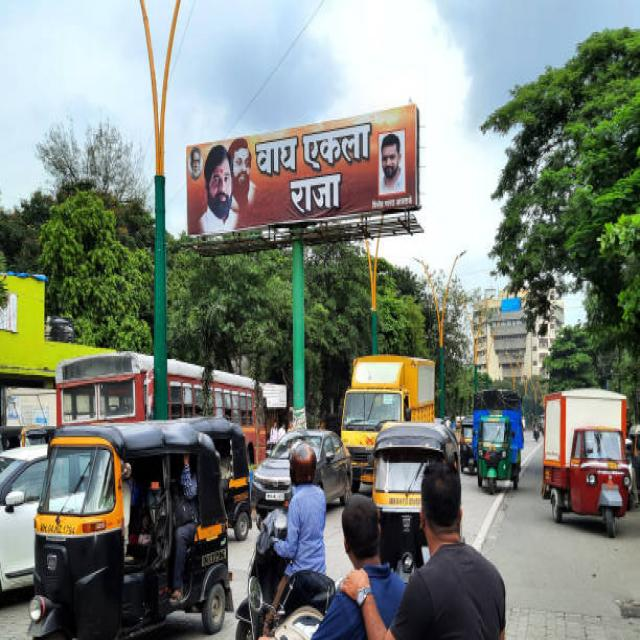Werbetafel frei: (186, 122, 420, 230)
